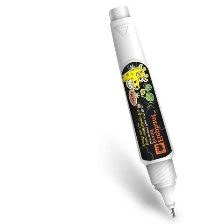correction_fluid: (108, 2, 180, 220)
